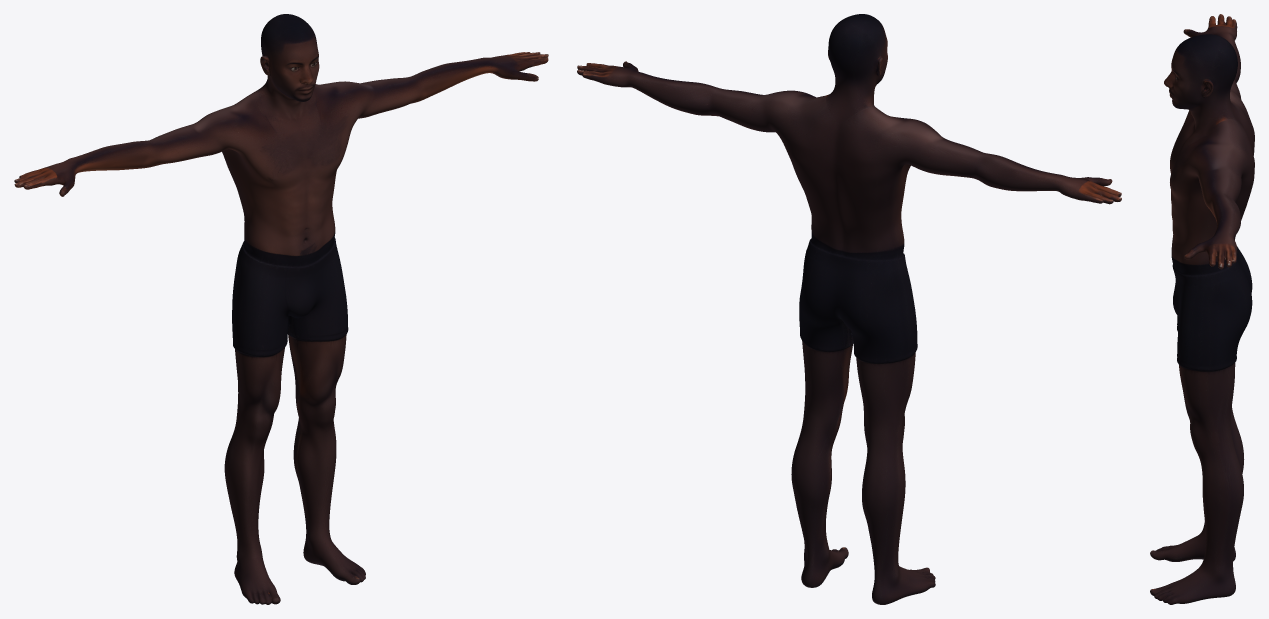
File: human_model_afro_male.glb
3 views of the same model, side by side, from view 1: azimuth 30°, elevation 25°; view 2: azimuth 150°, elevation 25°; view 3: azimuth 270°, elevation 25° (orthographic). The views are drawn at different scales.
Size of the model in its own units: 1.9 by 1.9 by 0.3328.
1 material, 1 textured.
